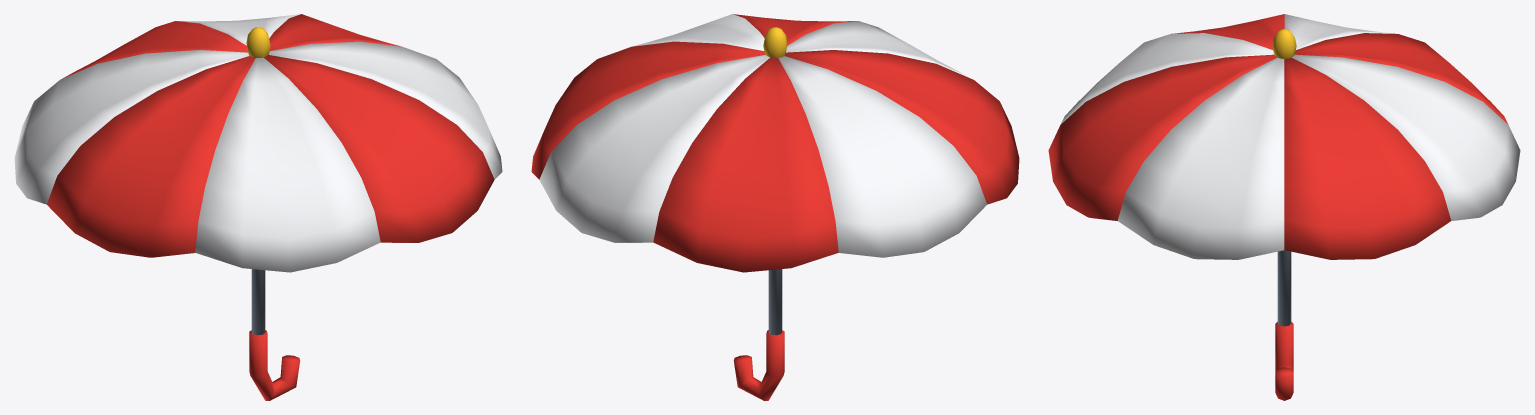
File: umbrella.glb
The picture shows the model from 3 angles, left to right: view 1: azimuth 30°, elevation 25°; view 2: azimuth 150°, elevation 25°; view 3: azimuth 270°, elevation 25°; orthographic projection. The views are drawn at different scales.
Parts seen in each view (by area): view 1: Canopy; view 2: Canopy; view 3: Canopy.
Boxes of the visible parts, x1=… form: Canopy: x1=14, y1=14, x2=502, y2=400; Canopy: x1=531, y1=14, x2=1019, y2=400; Canopy: x1=1048, y1=14, x2=1520, y2=400.
Size of the model in its own units: 1.56 by 1.32 by 1.56.
